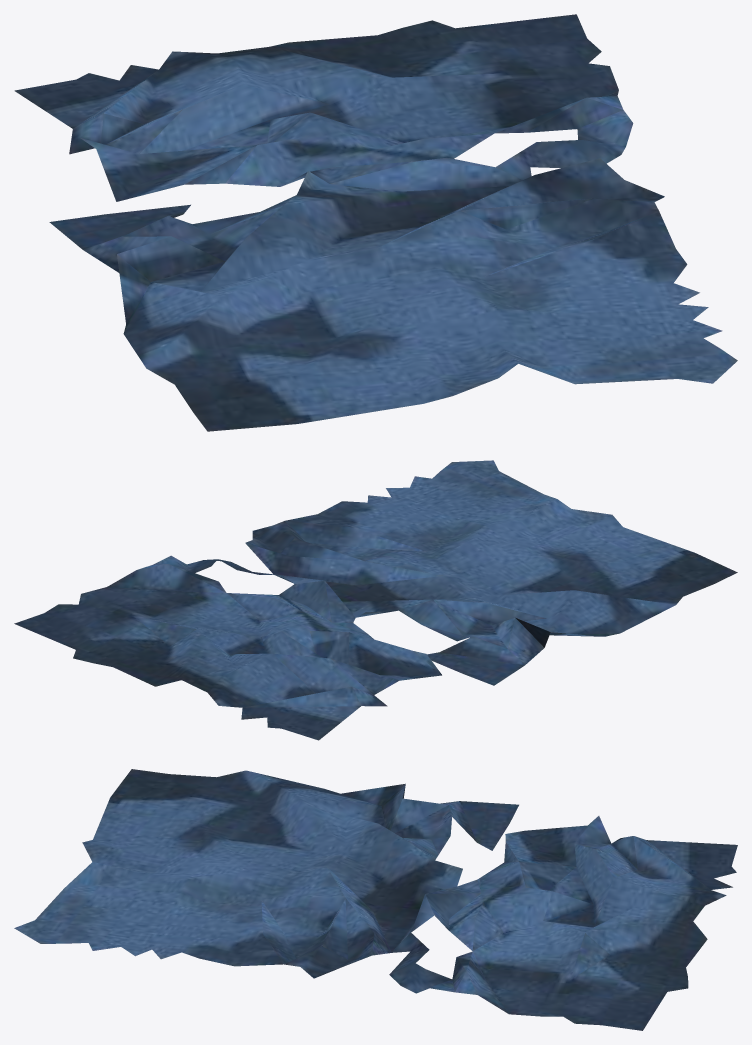
Rendered from rag_floor_rag_2_lod1_web.glb.
3 views of the same model, one above another, from view 1: azimuth 30°, elevation 25°; view 2: azimuth 150°, elevation 25°; view 3: azimuth 270°, elevation 25° (orthographic). The views are drawn at different scales.
Visible parts, largest first — view 1: rag_floor_rag_2_Cloth; view 2: rag_floor_rag_2_Cloth; view 3: rag_floor_rag_2_Cloth.
Part boxes in pixels (<box>): rag_floor_rag_2_Cloth: <box>14,14,737,431</box>; rag_floor_rag_2_Cloth: <box>14,460,737,740</box>; rag_floor_rag_2_Cloth: <box>14,769,737,1030</box>.
Size of the model in its own units: 0.5703 by 0.0289 by 0.6661.
1 material, 1 textured.
